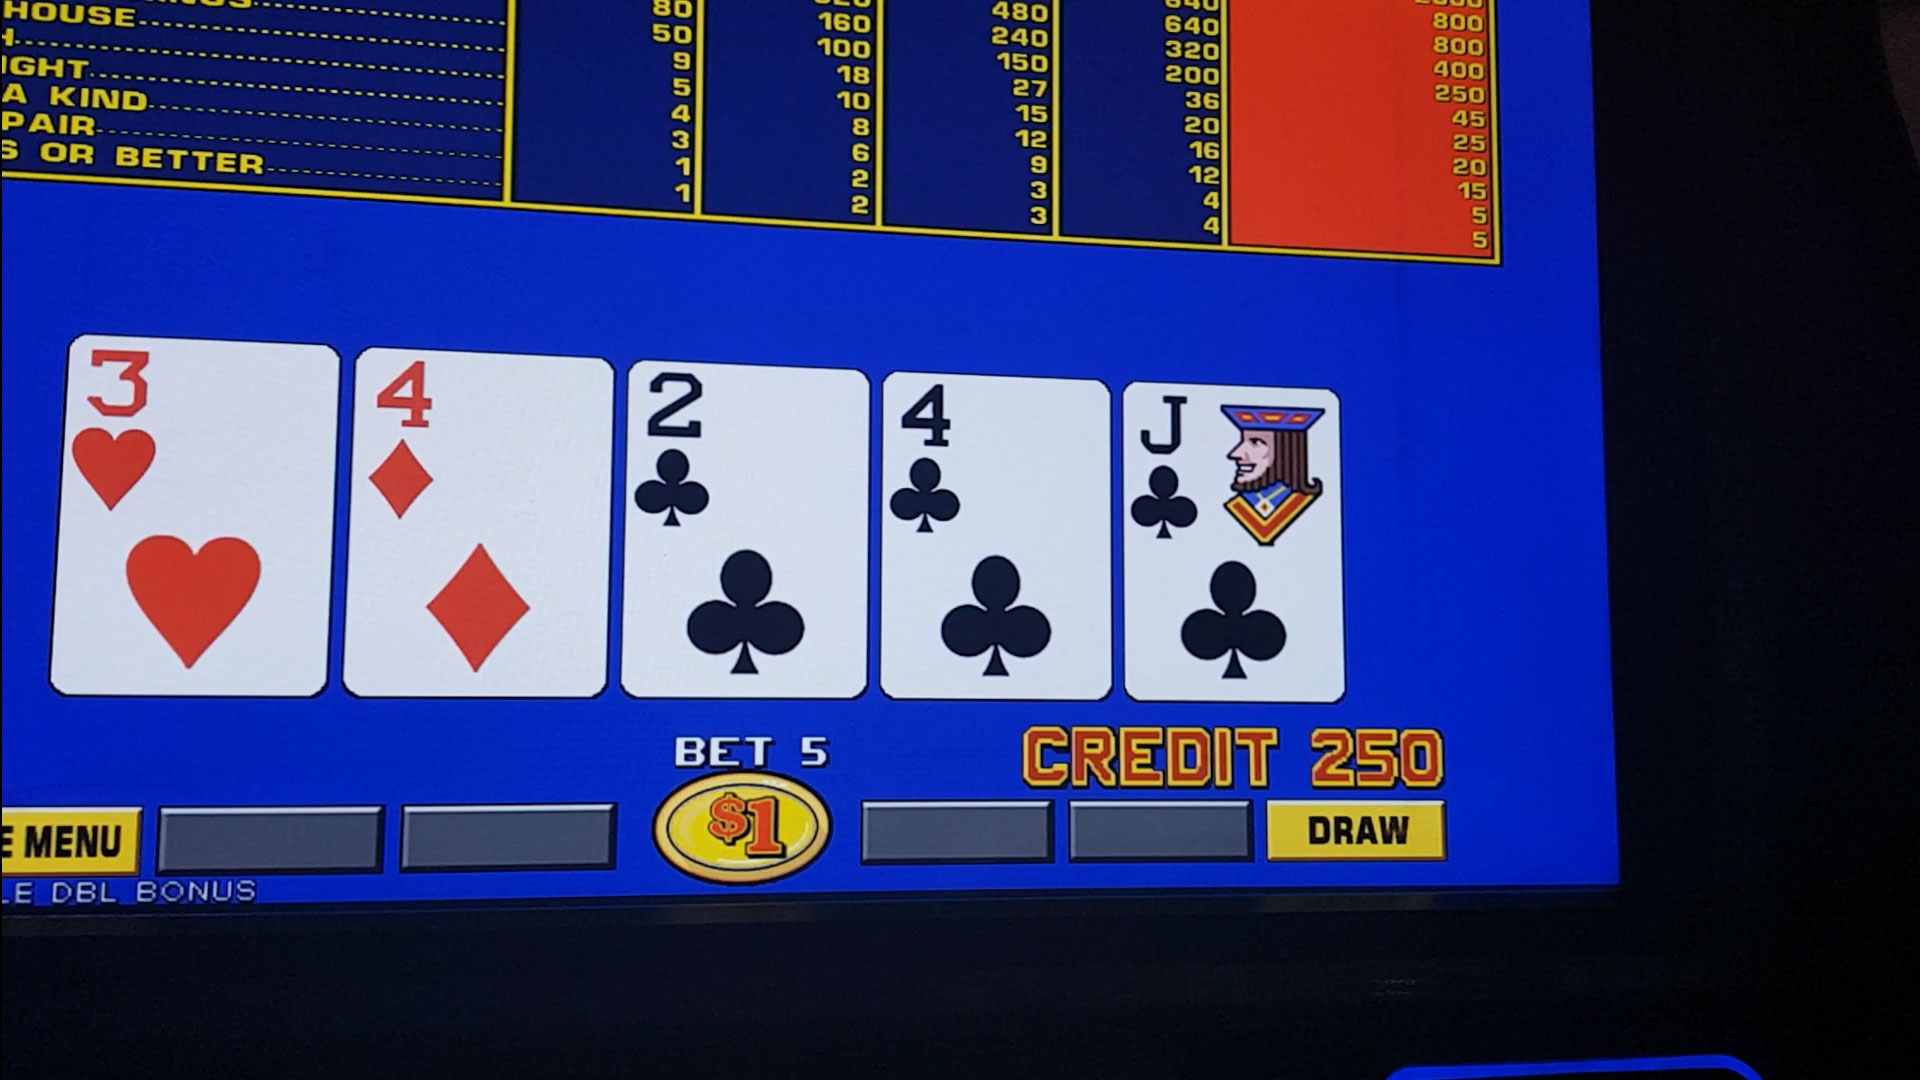C2: (633, 375, 864, 549)
C4: (887, 384, 1106, 551)
CJ: (1127, 392, 1335, 560)
D4: (357, 365, 607, 545)
H3: (76, 345, 330, 533)
